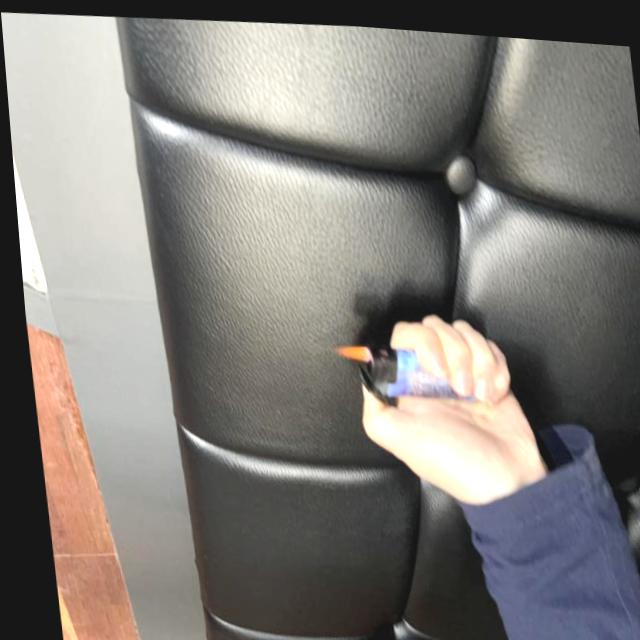helmet: (326, 338, 366, 358)
